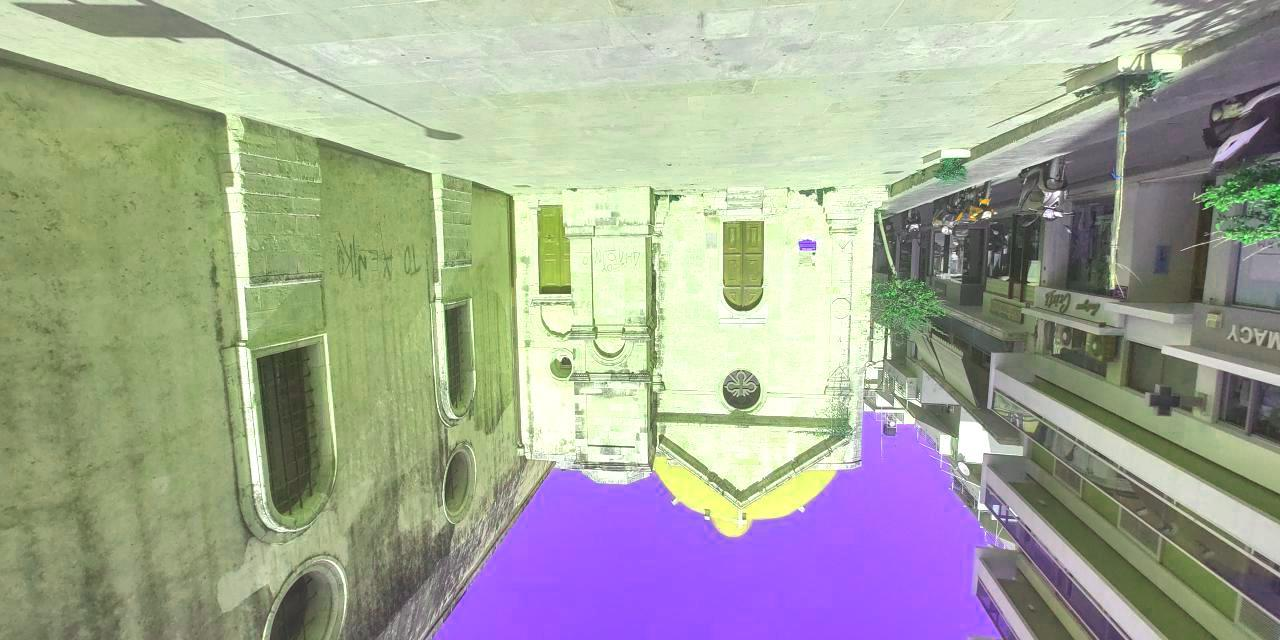Agia Aikaterini: (510, 188, 869, 543)
